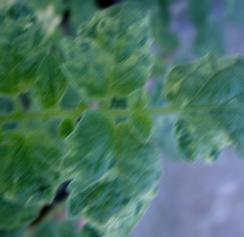Tomato leaf mosaic virus: (55, 111, 160, 237), (60, 0, 157, 103), (164, 51, 244, 167), (0, 125, 68, 211), (0, 5, 52, 108)
